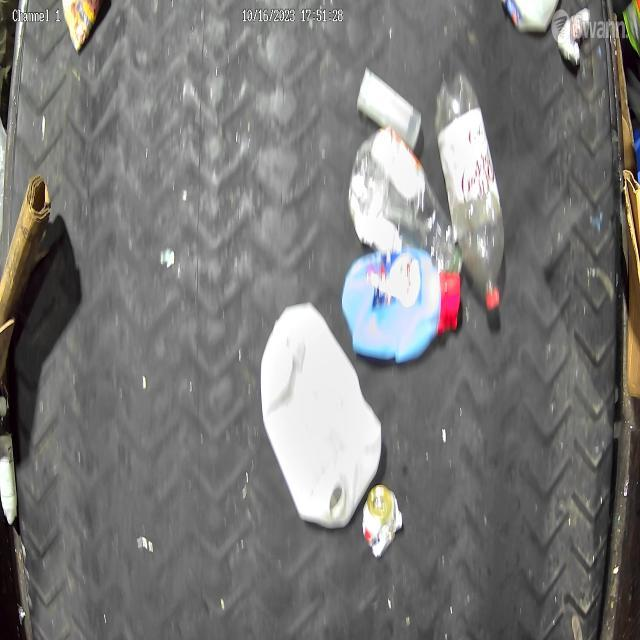can: (362, 482, 404, 560)
milk_jug: (260, 300, 382, 530)
non_white_jug: (340, 247, 460, 364)
plastic_bottle: (433, 72, 506, 314)
